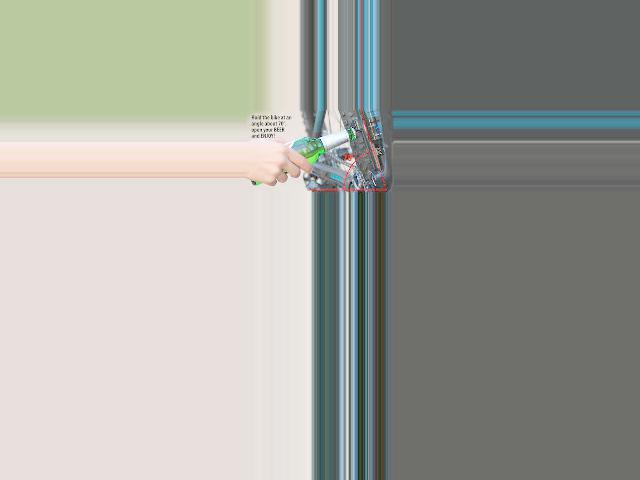beer: (251, 128, 358, 186)
